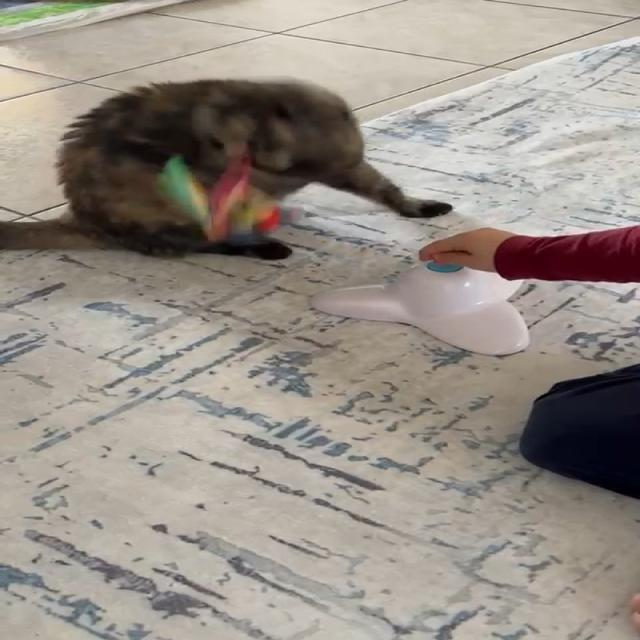authorized: (0, 75, 453, 260)
